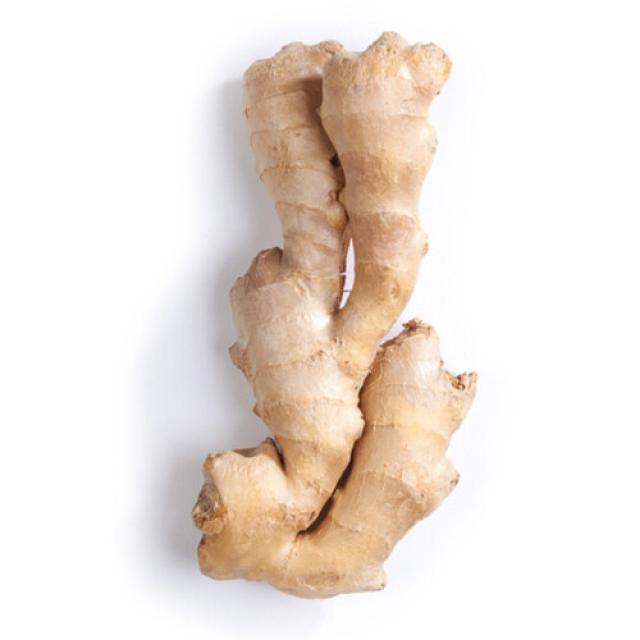ginger-root: (170, 9, 492, 598)
